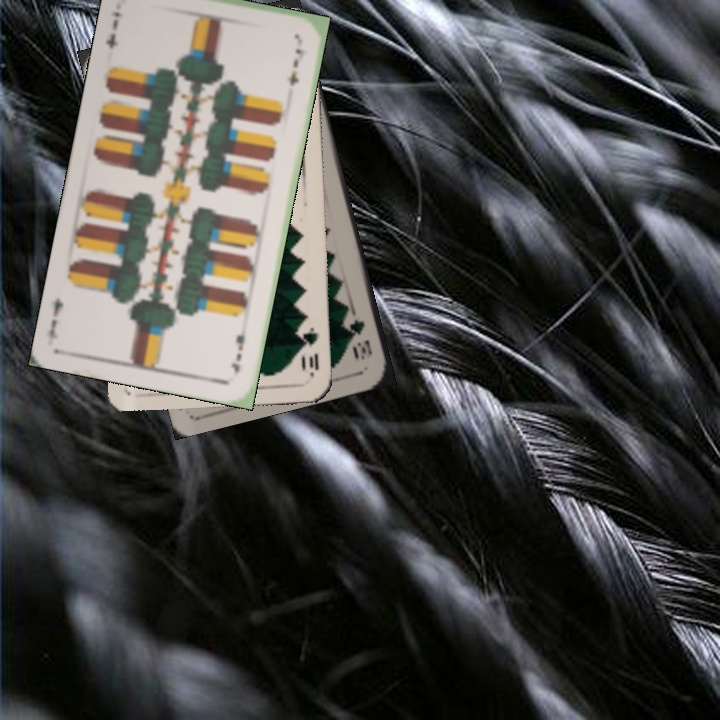E7: (227, 321, 250, 376), (102, 7, 123, 51)
G10: (345, 315, 375, 362), (297, 323, 321, 379)
